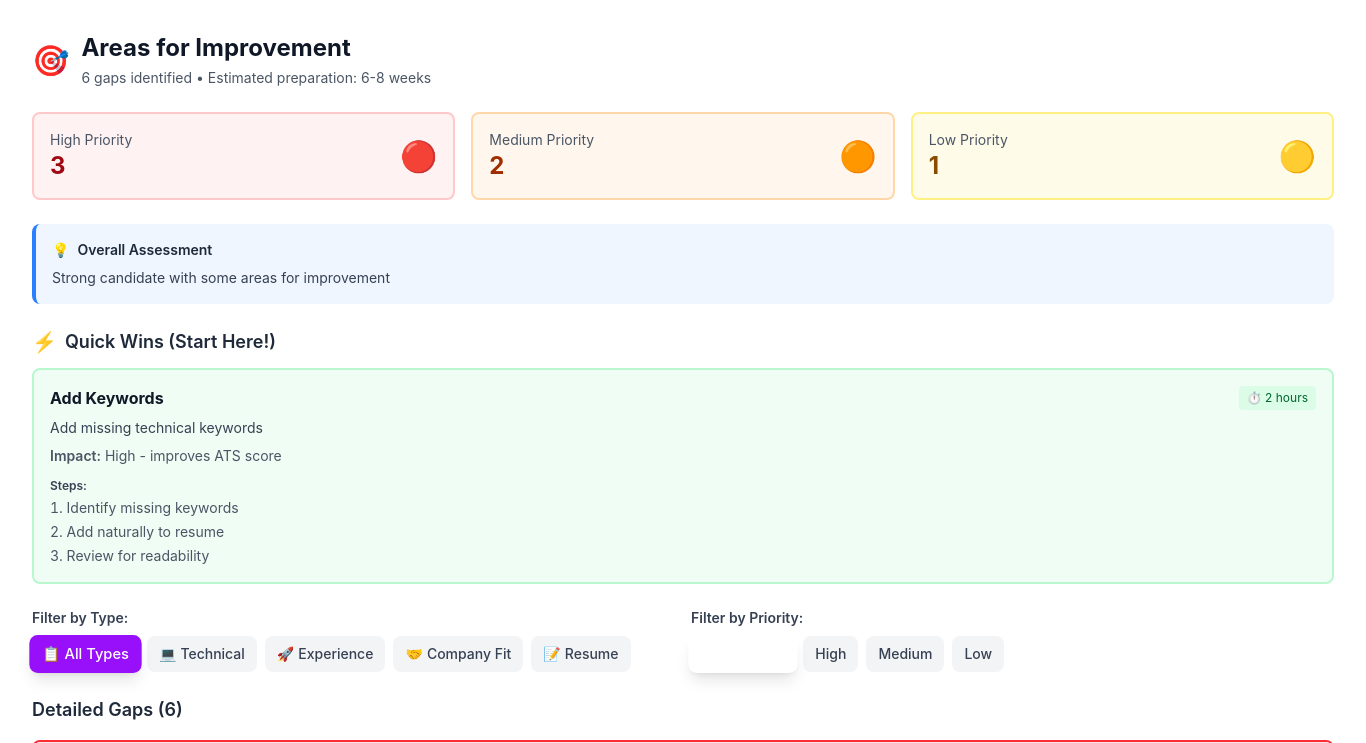
Test: GapsSection › type filtering › filters to technical gaps only
Click the button named "💻 Technical" at (202, 654), box x1=147 y1=636 x2=257 y2=672
(page scrolled)
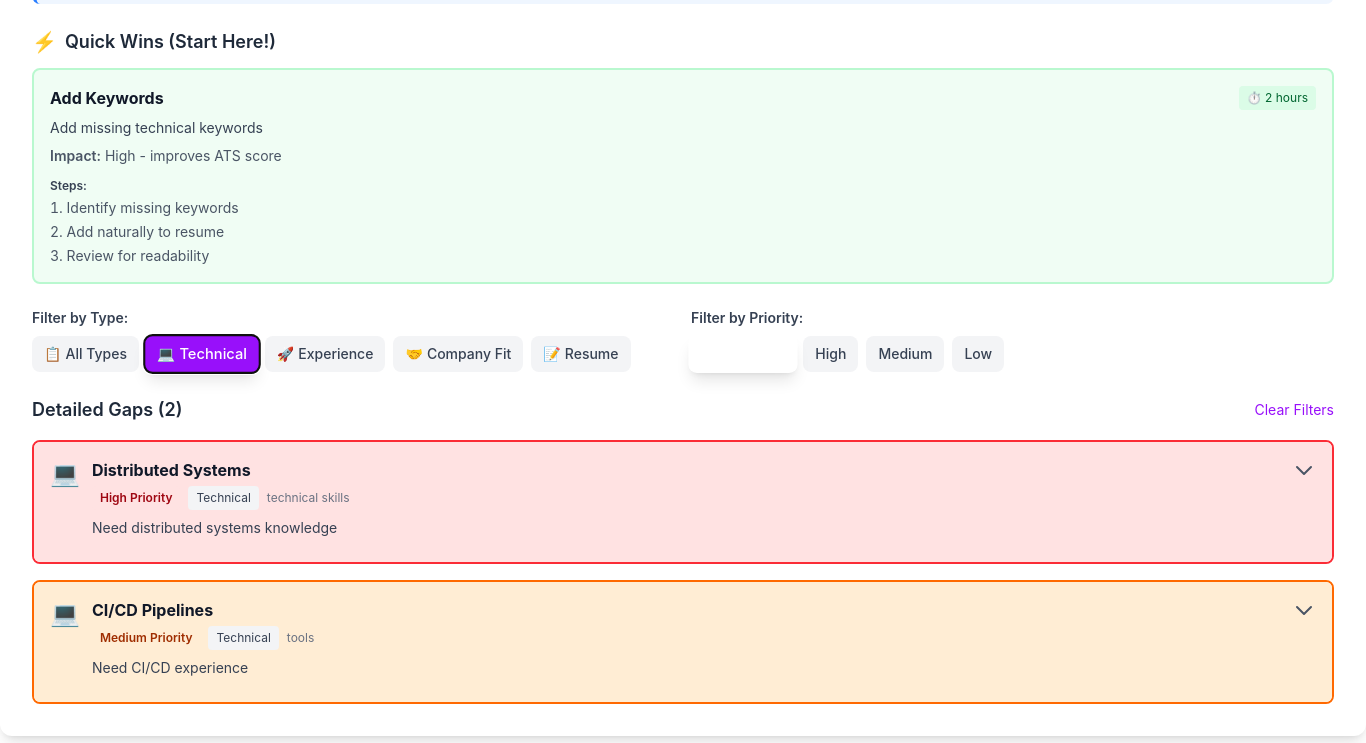
Check: the heading "Distributed Systems" is shown, box x1=92 y1=460 x2=251 y2=480
Check: the heading "Detailed Gaps (2)" is shown, box x1=32 y1=396 x2=182 y2=424
